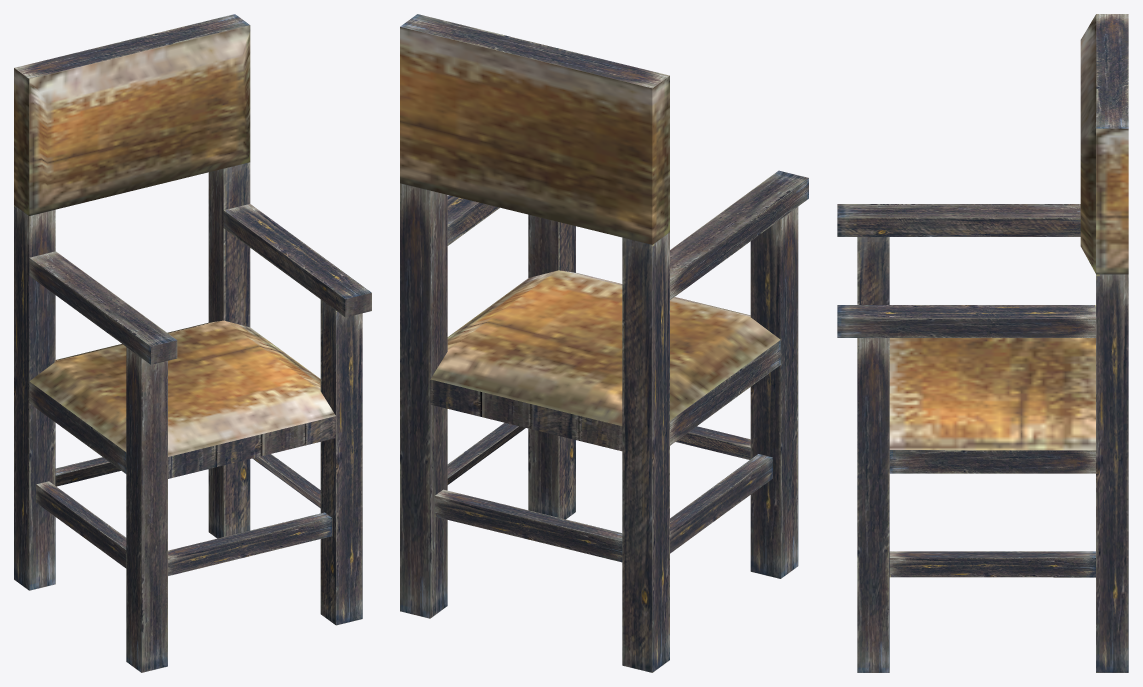
The model's file is chair1.glb.
The picture shows the model from 3 angles, left to right: view 1: azimuth 30°, elevation 25°; view 2: azimuth 150°, elevation 25°; view 3: azimuth 270°, elevation 25°; orthographic projection. The views are drawn at different scales.
Parts seen in each view (by area): view 1: chair1; view 2: chair1; view 3: chair1.
Part boxes in pixels (box(x1,y1,x2,y2)): chair1: box(14, 14, 371, 672); chair1: box(400, 14, 808, 672); chair1: box(837, 14, 1128, 672).
Bounding box in the file's own units: 0.5261 × 1.16 × 0.5648.
Materials: 2 (2 with a texture image).
